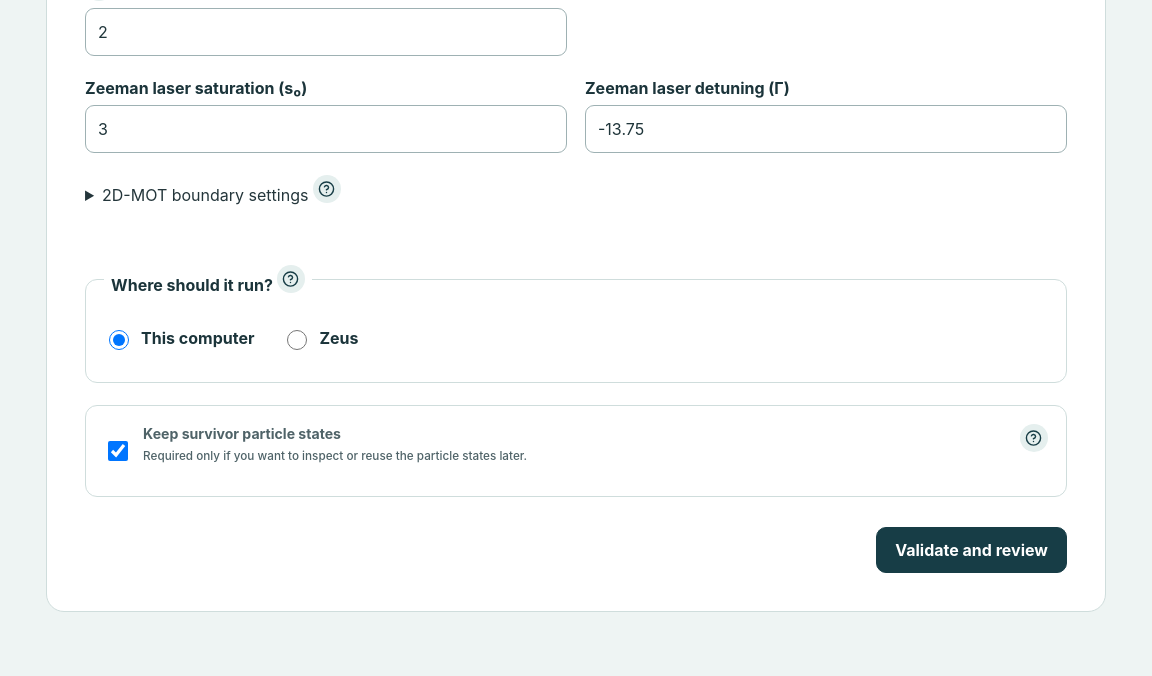
Test: individual Zeeman wizard › does not send a second creation confirmation while the first is pending
(page scrolled)
Click the button "Validate and review": (972, 550) x1=876 y1=527 x2=1067 y2=573
(page scrolled)
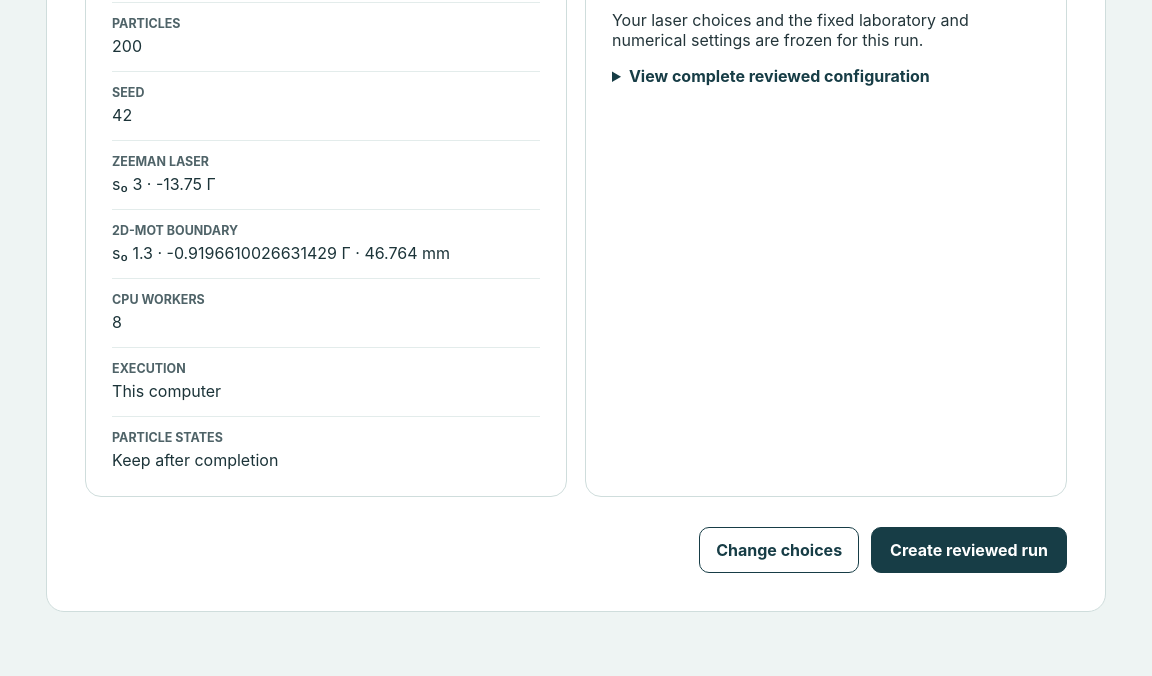
Click the button "Create reviewed run": (969, 550) x1=871 y1=527 x2=1067 y2=573
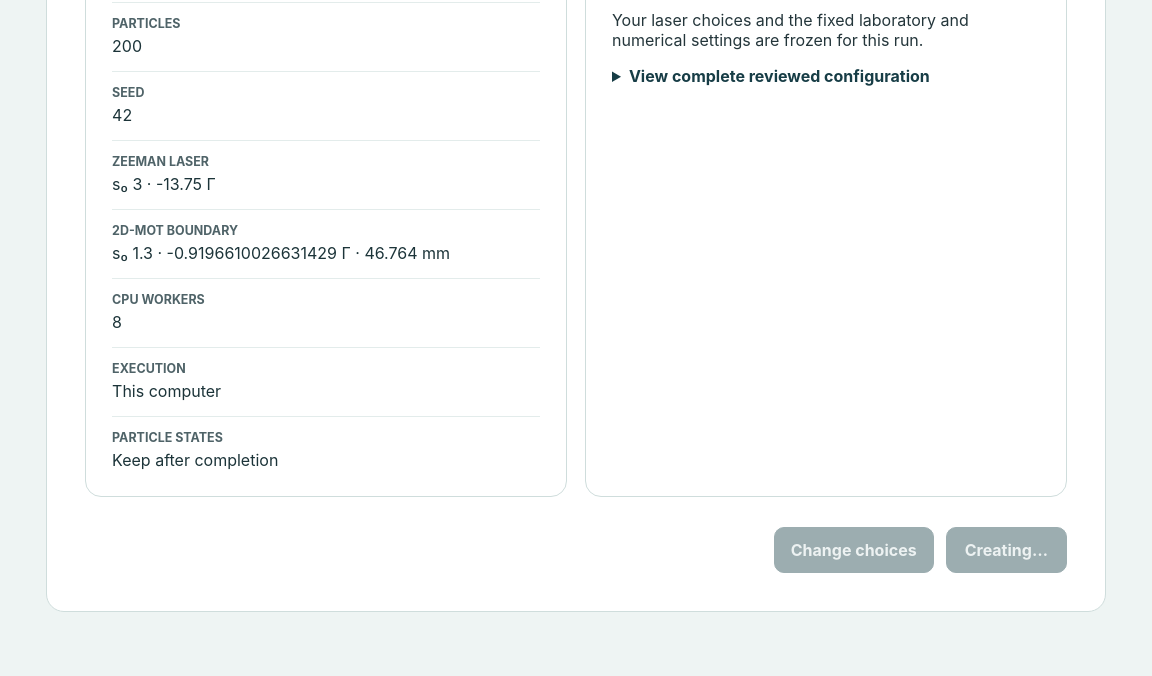
Click the button named "create reviewed run": (1006, 550) x1=946 y1=527 x2=1067 y2=573
(page scrolled)
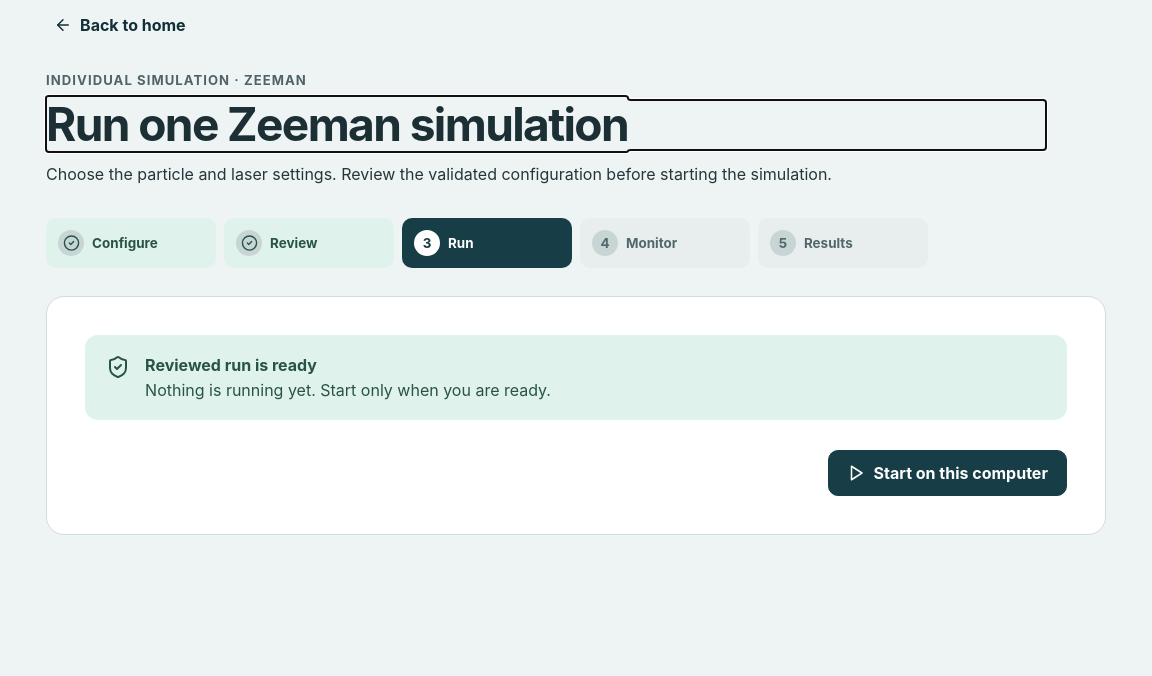
Result: the text "Nothing is running yet. Start only when you are ready." is shown at x1=145 y1=380 x2=551 y2=400
